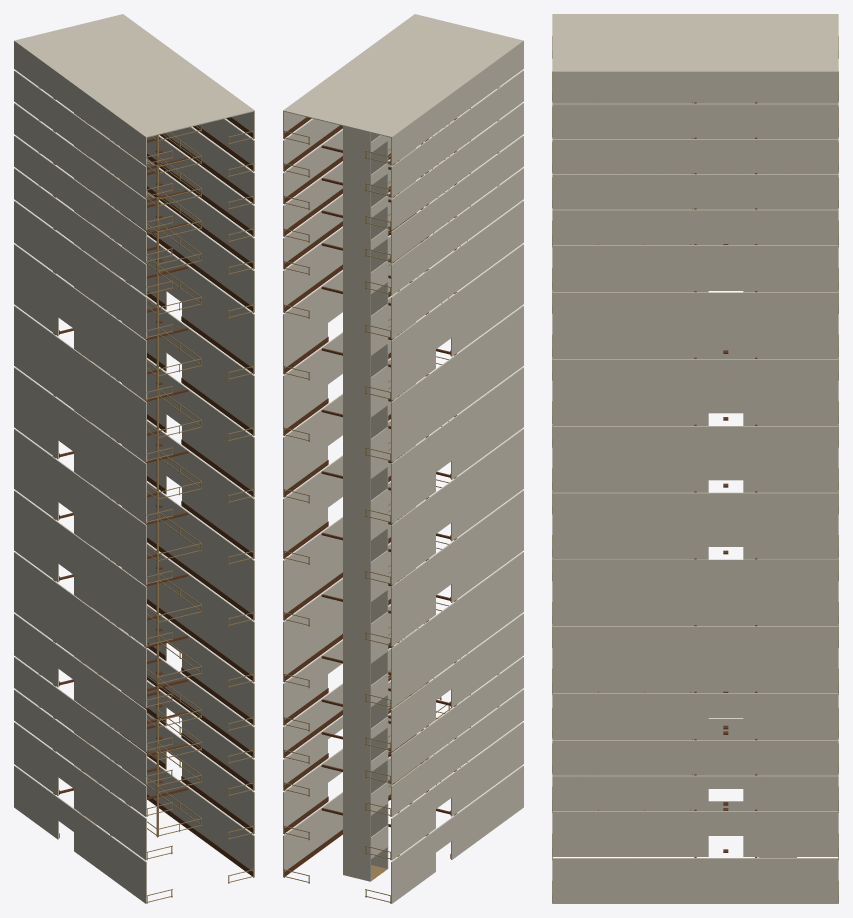
Rendered from AST-CIR-005_aft_sound_d11.glb.
3 views of the same model, side by side, from view 1: azimuth 30°, elevation 25°; view 2: azimuth 150°, elevation 25°; view 3: azimuth 270°, elevation 25° (orthographic). The views are drawn at different scales.
Visible parts, largest first — view 1: CORE_BATCH_ivory_enamel, CORE_BATCH_champagne_metal, CORE_BATCH_warm_walnut, CORE_OuterWall_01_-1_Solar_Aft, CORE_OuterWall_04_-1_hydration_Aft, CORE_OuterWall_04_1_family_waiting_Aft, CORE_OuterWall_01_1_Inspection_Aft, CORE_OuterWall_02_1_Uniforms_Aft, CORE_OuterWall_04_-1_hydration_Fore, CORE_OuterWall_01_-1_Solar_Fore, CORE_OuterWall_04_1_family_waiting_Fore, CORE_OuterWall_01_1_Inspection_Fore; view 2: CORE_BATCH_ivory_enamel, CORE_BATCH_warm_walnut, CORE_BATCH_champagne_metal, CORE_OuterWall_04_-1_hydration_Aft, CORE_OuterWall_01_-1_Solar_Aft, CORE_OuterWall_01_-1_Solar_Fore, CORE_OuterWall_04_-1_hydration_Fore, CORE_OuterWall_04_1_family_waiting_Fore, CORE_OuterWall_01_1_Inspection_Fore, CORE_OuterWall_02_1_Uniforms_Fore; view 3: CORE_BATCH_ivory_enamel, CORE_OuterWall_01_1_Inspection_Aft, CORE_OuterWall_04_1_family_waiting_Aft, CORE_OuterWall_02_1_Uniforms_Aft, CORE_OuterWall_01_1_Inspection_Fore, CORE_OuterWall_04_1_family_waiting_Fore, CORE_OuterWall_02_1_Uniforms_Fore, CORE_BATCH_champagne_metal, CORE_OuterWall_01_1_Inspection_Header, CORE_OuterWall_04_1_family_waiting_Header.
Boxes of the visible parts, box(x1,y1,x2,y2) form: CORE_BATCH_ivory_enamel: box(14, 14, 254, 903); CORE_BATCH_champagne_metal: box(38, 87, 254, 903); CORE_BATCH_warm_walnut: box(53, 97, 253, 875); CORE_OuterWall_01_-1_Solar_Aft: box(74, 766, 146, 860); CORE_OuterWall_04_-1_hydration_Aft: box(74, 657, 146, 751); CORE_OuterWall_04_1_family_waiting_Aft: box(182, 631, 254, 725); CORE_OuterWall_01_1_Inspection_Aft: box(182, 739, 254, 833); CORE_OuterWall_02_1_Uniforms_Aft: box(182, 707, 254, 790); CORE_OuterWall_04_-1_hydration_Fore: box(14, 613, 58, 687); CORE_OuterWall_01_-1_Solar_Fore: box(14, 722, 58, 795); CORE_OuterWall_04_1_family_waiting_Fore: box(147, 605, 166, 660); CORE_OuterWall_01_1_Inspection_Fore: box(147, 714, 166, 769); CORE_BATCH_ivory_enamel: box(283, 14, 523, 903); CORE_BATCH_warm_walnut: box(284, 117, 456, 875); CORE_BATCH_champagne_metal: box(283, 87, 499, 903); CORE_OuterWall_04_-1_hydration_Aft: box(451, 613, 523, 707); CORE_OuterWall_01_-1_Solar_Aft: box(451, 722, 523, 816); CORE_OuterWall_01_-1_Solar_Fore: box(391, 786, 435, 860); CORE_OuterWall_04_-1_hydration_Fore: box(391, 678, 435, 751); CORE_OuterWall_04_1_family_waiting_Fore: box(283, 651, 327, 725); CORE_OuterWall_01_1_Inspection_Fore: box(283, 760, 327, 833); CORE_OuterWall_02_1_Uniforms_Fore: box(283, 727, 327, 790); CORE_BATCH_ivory_enamel: box(552, 14, 838, 903); CORE_OuterWall_01_1_Inspection_Aft: box(552, 811, 708, 856); CORE_OuterWall_04_1_family_waiting_Aft: box(552, 693, 708, 738); CORE_OuterWall_02_1_Uniforms_Aft: box(552, 775, 708, 809); CORE_OuterWall_01_1_Inspection_Fore: box(743, 811, 838, 856); CORE_OuterWall_04_1_family_waiting_Fore: box(743, 693, 838, 738); CORE_OuterWall_02_1_Uniforms_Fore: box(743, 775, 838, 809); CORE_BATCH_champagne_metal: box(552, 36, 838, 902); CORE_OuterWall_01_1_Inspection_Header: box(708, 811, 743, 835); CORE_OuterWall_04_1_family_waiting_Header: box(708, 693, 743, 717).
Bounding box in the file's own units: 15.76 × 106 × 33.08.
Materials: 4 (3 with a texture image).
